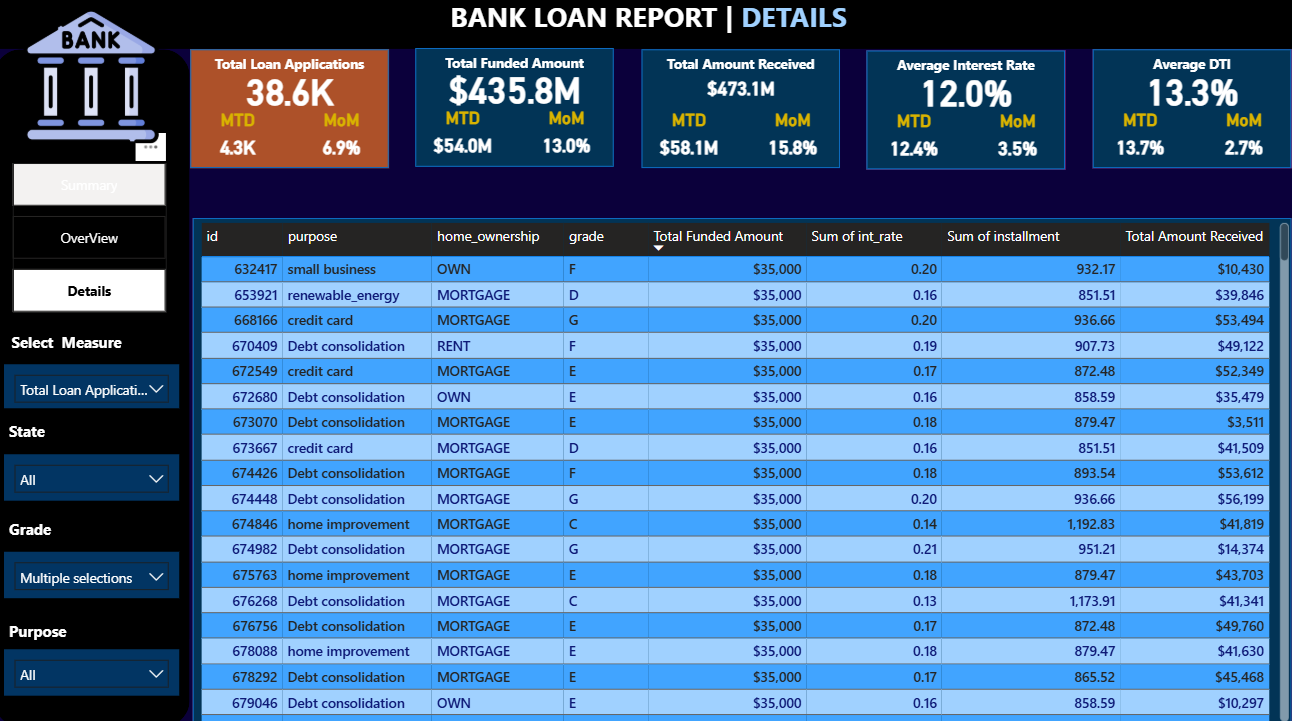

The dashboard page shown, as its layout file describes it:
{"tool":"powerbi","page":{"name":"Details","canvas":[1280,720],"ordinal":2},"visuals":[{"type":"shape","box":[0,54.9,192.1,665.5],"z":0},{"type":"shape","box":[0,0,1280.3,54.9],"z":1000},{"type":"textbox","box":[404.8,0,467.9,54.9],"z":2000},{"type":"shape","box":[413.5,54,194.9,116.6],"z":3000,"group":"g2"},{"type":"group","id":"g1","title":"Group 1","box":[192.1,54.9,194.9,116.6],"z":3000},{"type":"shape","box":[192.1,54.9,194.9,116.6],"z":3000,"group":"g1"},{"type":"shape","box":[635.2,55.2,194.9,116.6],"z":3000,"group":"g3"},{"type":"shape","box":[1078.5,55.2,194.9,116.6],"z":3000,"group":"g5"},{"type":"shape","box":[856.9,56.4,194.9,116.6],"z":3000,"group":"g4"},{"type":"shape","box":[195.1,220.9,1078.5,499.4],"z":3000},{"type":"group","id":"g2","title":"Group 1","box":[413.5,54,195.1,116.6],"z":4000},{"type":"card","fields":{"Values":["financial_loan.Total Funded Amount"]},"box":[432.7,54,156.4,78.2],"z":4000,"group":"g2"},{"type":"card","fields":{"Values":["financial_loan.Total Loan Applications"]},"box":[211.3,54.9,156.4,78.2],"z":4000,"group":"g1"},{"type":"card","fields":{"Values":["financial_loan.Total Amount Received"]},"box":[654.4,55.2,156.4,78.2],"z":4000,"group":"g3"},{"type":"card","fields":{"Values":["financial_loan.Avg DTI"]},"box":[1097.7,55.2,156.4,78.2],"z":4000,"group":"g5"},{"type":"card","fields":{"Values":["financial_loan.Avg Interest Rate"]},"box":[876.1,56.4,156.4,78.2],"z":4000,"group":"g4"},{"type":"textbox","box":[413.5,54,194.9,27.4],"z":5000,"group":"g2"},{"type":"textbox","box":[192.1,54.9,194.9,27.4],"z":5000,"group":"g1"},{"type":"textbox","box":[635.2,55.2,194.9,27.4],"z":5000,"group":"g3"},{"type":"textbox","box":[1078.5,55.2,194.9,27.4],"z":5000,"group":"g5"},{"type":"textbox","box":[856.9,56.4,194.9,27.4],"z":5000,"group":"g4"},{"type":"group","id":"g3","title":"Group 1","box":[635.2,55.2,195.1,116.6],"z":6000},{"type":"card","title":"MTD","fields":{"Values":["financial_loan.MTD  Funded Amount"]},"box":[413.5,113,93.3,56.3],"z":6000,"group":"g2"},{"type":"card","title":"MTD","fields":{"Values":["financial_loan.MTD Loan Applications"]},"box":[192.1,113.9,93.3,56.3],"z":6000,"group":"g1"},{"type":"card","title":"MTD","fields":{"Values":["financial_loan.MTD Amount Received"]},"box":[635.2,114.2,93.3,56.3],"z":6000,"group":"g3"},{"type":"card","title":"MTD","fields":{"Values":["financial_loan.MTD Avg DTI"]},"box":[1078.5,114.2,93.3,56.3],"z":6000,"group":"g5"},{"type":"card","title":"MTD","fields":{"Values":["financial_loan.MTD Avg Int Rate"]},"box":[856.9,115.4,93.3,56.3],"z":6000,"group":"g4"},{"type":"group","id":"g4","title":"Group 1","box":[856.9,56.4,195.1,116.6],"z":7000},{"type":"card","title":"MoM","fields":{"Values":["financial_loan.MoM Funded Amount"]},"box":[515,113,93.3,56.3],"z":7000,"group":"g2"},{"type":"card","title":"MoM","fields":{"Values":["financial_loan.MOM Loan Applications"]},"box":[293.6,113.9,93.3,56.3],"z":7000,"group":"g1"},{"type":"card","title":"MoM","fields":{"Values":["financial_loan.MoM Amount Received"]},"box":[736.7,114.2,93.3,56.3],"z":7000,"group":"g3"},{"type":"card","title":"MoM","fields":{"Values":["financial_loan.MoM Avg DTI"]},"box":[1180,114.2,93.3,56.3],"z":7000,"group":"g5"},{"type":"card","title":"MoM","fields":{"Values":["financial_loan.MoM Avg Int Rate"]},"box":[958.4,115.4,93.3,56.3],"z":7000,"group":"g4"},{"type":"group","id":"g5","title":"Group 1","box":[1078.5,55.2,195.1,116.6],"z":8000},{"type":"slicer","fields":{"Values":["financial_loan.address_state"]},"box":[9.8,453,171.8,45.4],"z":9000},{"type":"textbox","box":[9.8,415,67.5,41.7],"z":10000},{"type":"slicer","fields":{"Values":["financial_loan.grade"]},"box":[9.8,548.7,171.8,45.4],"z":11000},{"type":"textbox","box":[9.8,511.9,67.5,36.8],"z":12000},{"type":"slicer","fields":{"Values":["financial_loan.purpose"]},"box":[9.8,644.4,171.8,45.4],"z":13000},{"type":"textbox","box":[9.8,611.3,73.6,33.1],"z":14000},{"type":"slicer","fields":{"Values":["Select Measure.Select Measure"]},"box":[9.8,364.7,171.8,42.9],"z":16000},{"type":"textbox","box":[12.3,327.9,133.7,41.7],"z":17000},{"type":"tableEx","fields":{"Values":["financial_loan.id","financial_loan.purpose","financial_loan.home_ownership","financial_loan.grade","financial_loan.Total Funded Amount","Sum(financial_loan.int_rate)","Sum(financial_loan.installment)","financial_loan.Total Amount Received"]},"box":[197.5,220.9,1078.5,499.4],"z":17001},{"type":"pageNavigator","box":[17.9,167.4,150.9,147.2],"z":17002}]}

Visuals, with their boxes on the page's 1280x720 design canvas (x1, y1, x2, y2). These are canvas units, not pixel positions in the 1292x721 screenshot, which may show the page scaled, cropped or inside an application window:
shape: [x1=0, y1=55, x2=192, y2=720]
shape: [x1=0, y1=0, x2=1280, y2=55]
textbox: [x1=405, y1=0, x2=873, y2=55]
shape: [x1=414, y1=54, x2=608, y2=171]
"Group 1" group: [x1=192, y1=55, x2=387, y2=172]
shape: [x1=192, y1=55, x2=387, y2=172]
shape: [x1=635, y1=55, x2=830, y2=172]
shape: [x1=1078, y1=55, x2=1273, y2=172]
shape: [x1=857, y1=56, x2=1052, y2=173]
shape: [x1=195, y1=221, x2=1274, y2=720]
"Group 1" group: [x1=414, y1=54, x2=609, y2=171]
card - financial_loan.Total Funded Amount: [x1=433, y1=54, x2=589, y2=132]
card - financial_loan.Total Loan Applications: [x1=211, y1=55, x2=368, y2=133]
card - financial_loan.Total Amount Received: [x1=654, y1=55, x2=811, y2=133]
card - financial_loan.Avg DTI: [x1=1098, y1=55, x2=1254, y2=133]
card - financial_loan.Avg Interest Rate: [x1=876, y1=56, x2=1032, y2=135]
textbox: [x1=414, y1=54, x2=608, y2=81]
textbox: [x1=192, y1=55, x2=387, y2=82]
textbox: [x1=635, y1=55, x2=830, y2=83]
textbox: [x1=1078, y1=55, x2=1273, y2=83]
textbox: [x1=857, y1=56, x2=1052, y2=84]
"Group 1" group: [x1=635, y1=55, x2=830, y2=172]
"MTD" card: [x1=414, y1=113, x2=507, y2=169]
"MTD" card: [x1=192, y1=114, x2=285, y2=170]
"MTD" card: [x1=635, y1=114, x2=728, y2=170]
"MTD" card: [x1=1078, y1=114, x2=1172, y2=170]
"MTD" card: [x1=857, y1=115, x2=950, y2=172]
"Group 1" group: [x1=857, y1=56, x2=1052, y2=173]
"MoM" card: [x1=515, y1=113, x2=608, y2=169]
"MoM" card: [x1=294, y1=114, x2=387, y2=170]
"MoM" card: [x1=737, y1=114, x2=830, y2=170]
"MoM" card: [x1=1180, y1=114, x2=1273, y2=170]
"MoM" card: [x1=958, y1=115, x2=1052, y2=172]
"Group 1" group: [x1=1078, y1=55, x2=1274, y2=172]
slicer - financial_loan.address_state: [x1=10, y1=453, x2=182, y2=498]
textbox: [x1=10, y1=415, x2=77, y2=457]
slicer - financial_loan.grade: [x1=10, y1=549, x2=182, y2=594]
textbox: [x1=10, y1=512, x2=77, y2=549]
slicer - financial_loan.purpose: [x1=10, y1=644, x2=182, y2=690]
textbox: [x1=10, y1=611, x2=83, y2=644]
slicer - Select Measure.Select Measure: [x1=10, y1=365, x2=182, y2=408]
textbox: [x1=12, y1=328, x2=146, y2=370]
tableEx - financial_loan.id x financial_loan.purpose: [x1=198, y1=221, x2=1276, y2=720]
pageNavigator: [x1=18, y1=167, x2=169, y2=315]
